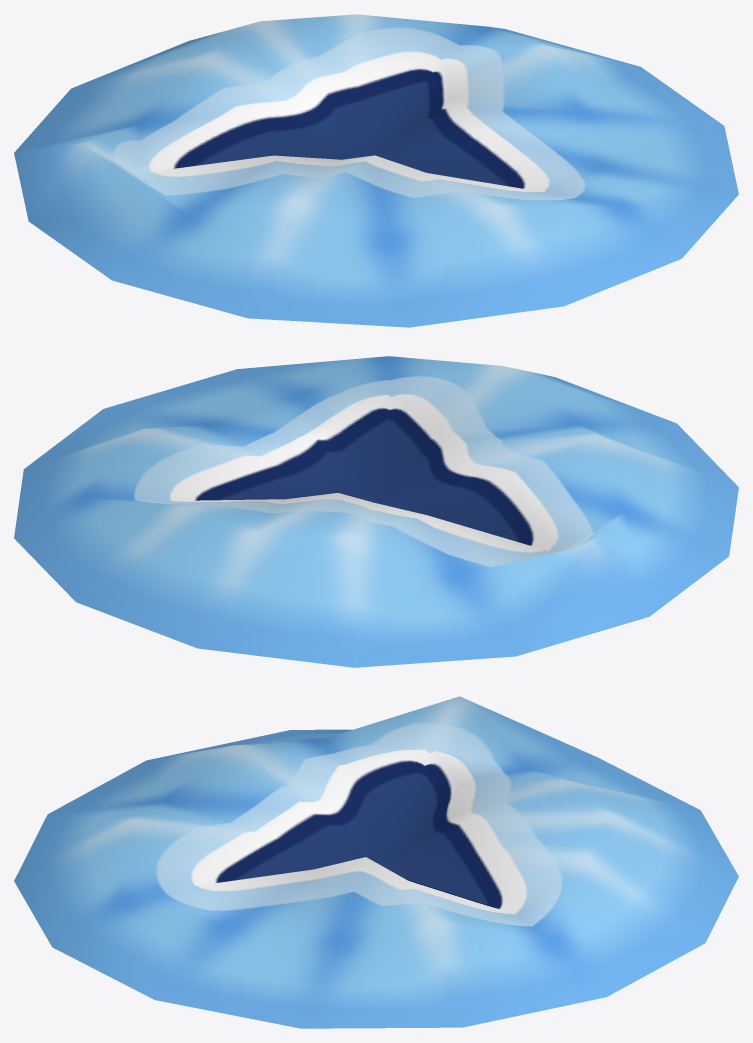
The model's file is Bubble_Popped_B.fbx.
The picture shows the model from 3 angles, top to bottom: view 1: azimuth 30°, elevation 25°; view 2: azimuth 150°, elevation 25°; view 3: azimuth 270°, elevation 25°; orthographic projection.
Visible parts, largest first — view 1: Bubble_Popped_B; view 2: Bubble_Popped_B; view 3: Bubble_Popped_B.
Part boxes in pixels (x1,y1,x2,y2): Bubble_Popped_B: (14,14,738,327); Bubble_Popped_B: (14,356,738,667); Bubble_Popped_B: (14,696,738,1028).
Bounding box in the file's own units: 1.11 × 0.1098 × 1.13.
1 material, 1 textured.
